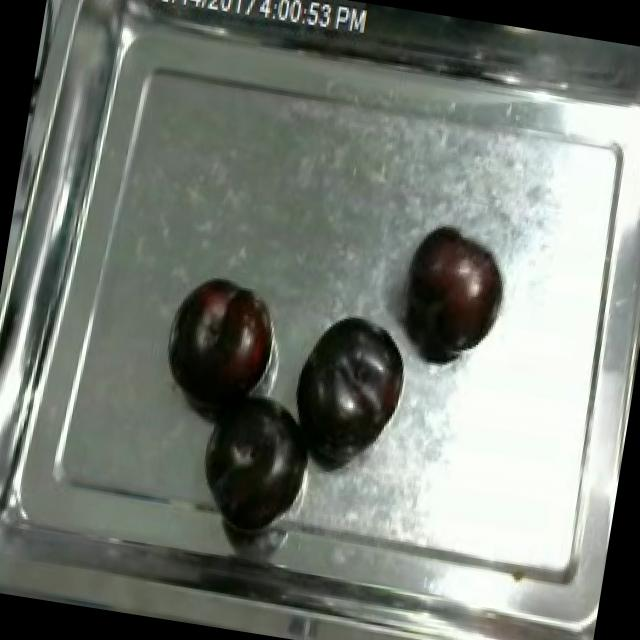Fruit: (280, 302, 418, 472), (190, 383, 322, 542), (154, 264, 284, 422), (389, 217, 518, 376)
